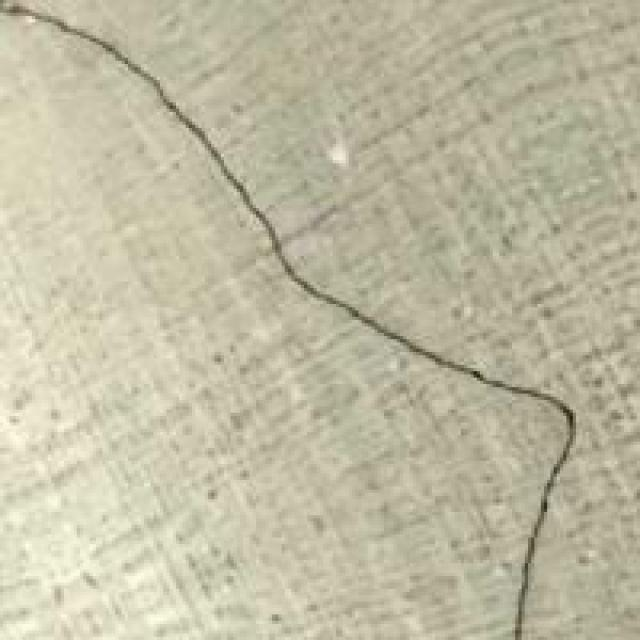crack: (16, 0, 592, 630)
